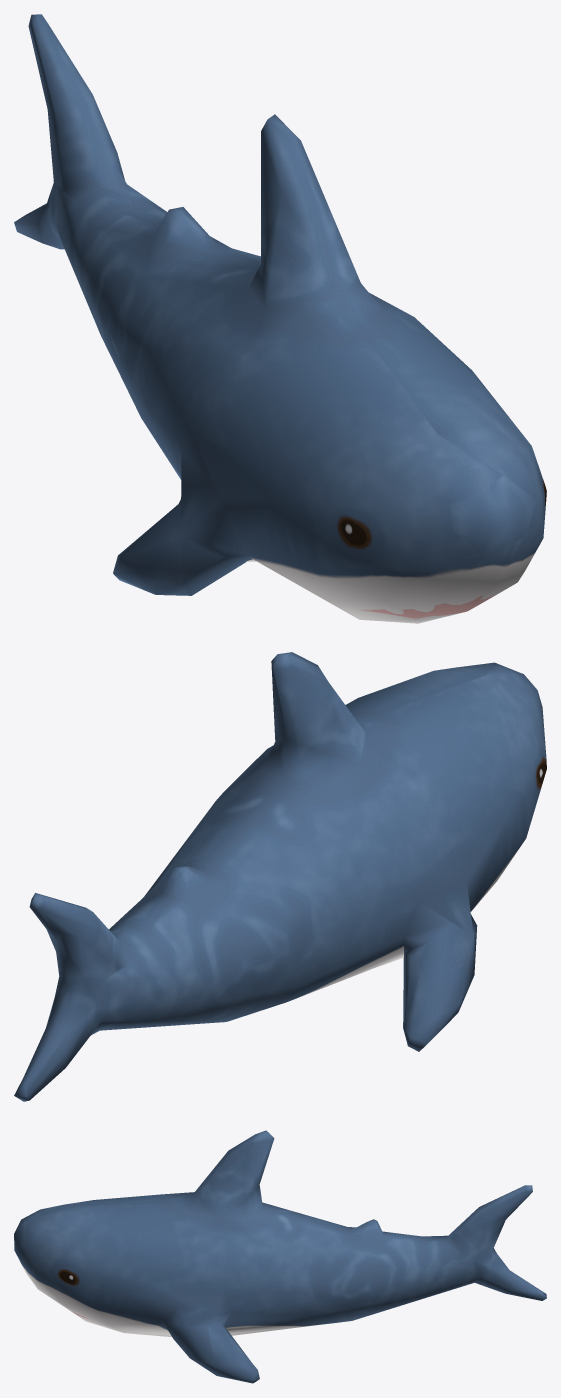
Rendered from blahaj.obj.
3 renders of one model, top to bottom at view 1: azimuth 30°, elevation 25°; view 2: azimuth 150°, elevation 25°; view 3: azimuth 270°, elevation 25°, orthographic. The views are drawn at different scales.
Visible parts, largest first — view 1: Low_poly_blahaj1; view 2: Low_poly_blahaj1; view 3: Low_poly_blahaj1.
Boxes of the visible parts, x1=… form: Low_poly_blahaj1: x1=14, y1=14, x2=546, y2=623; Low_poly_blahaj1: x1=14, y1=652, x2=546, y2=1101; Low_poly_blahaj1: x1=14, y1=1130, x2=546, y2=1383.
Bounding box in the file's own units: 2.45 × 2.97 × 6.7.
1 material, 1 textured.
